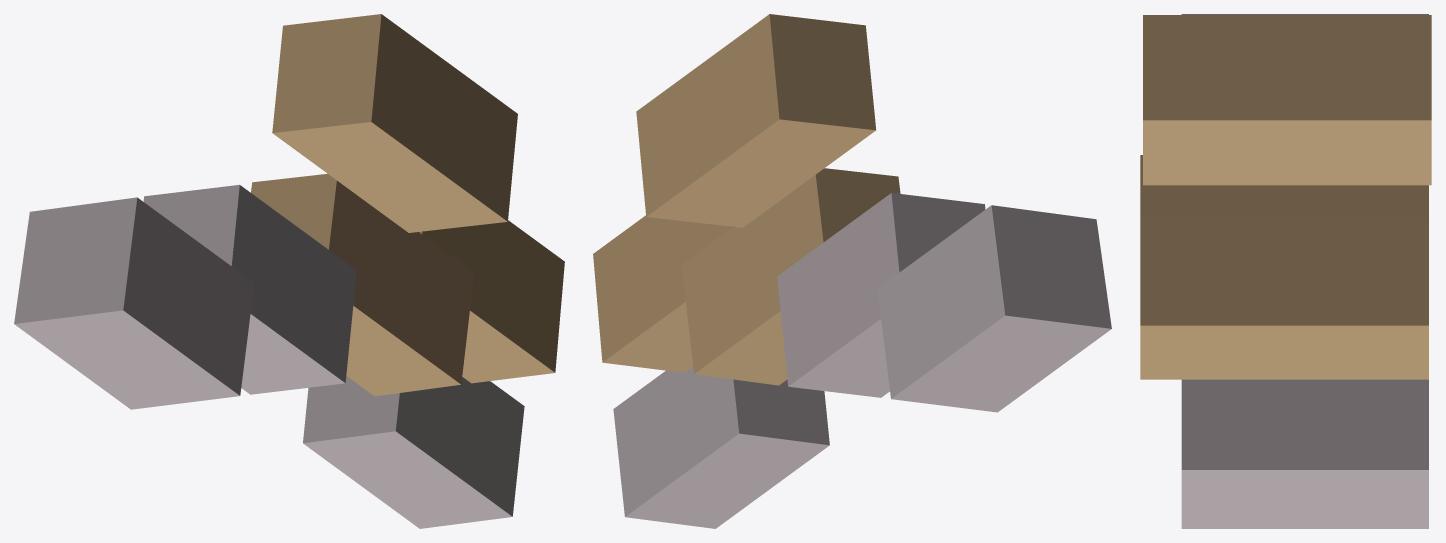
3 views of the same model, side by side, from view 1: azimuth 30°, elevation 25°; view 2: azimuth 150°, elevation 25°; view 3: azimuth 270°, elevation 25° (orthographic). The views are drawn at different scales.
Parts seen in each view (by area): view 1: 0_0_3_1_3_3_2_2_0; view 2: 0_0_3_1_3_3_2_2_0; view 3: 0_0_3_1_3_3_2_2_0.
Boxes of the visible parts, x1,y1,x2,y2 form: 0_0_3_1_3_3_2_2_0: [14, 14, 564, 528]; 0_0_3_1_3_3_2_2_0: [593, 14, 1111, 528]; 0_0_3_1_3_3_2_2_0: [1140, 14, 1431, 528].
Bounding box in the file's own units: 36.8 × 36.65 × 21.2.
